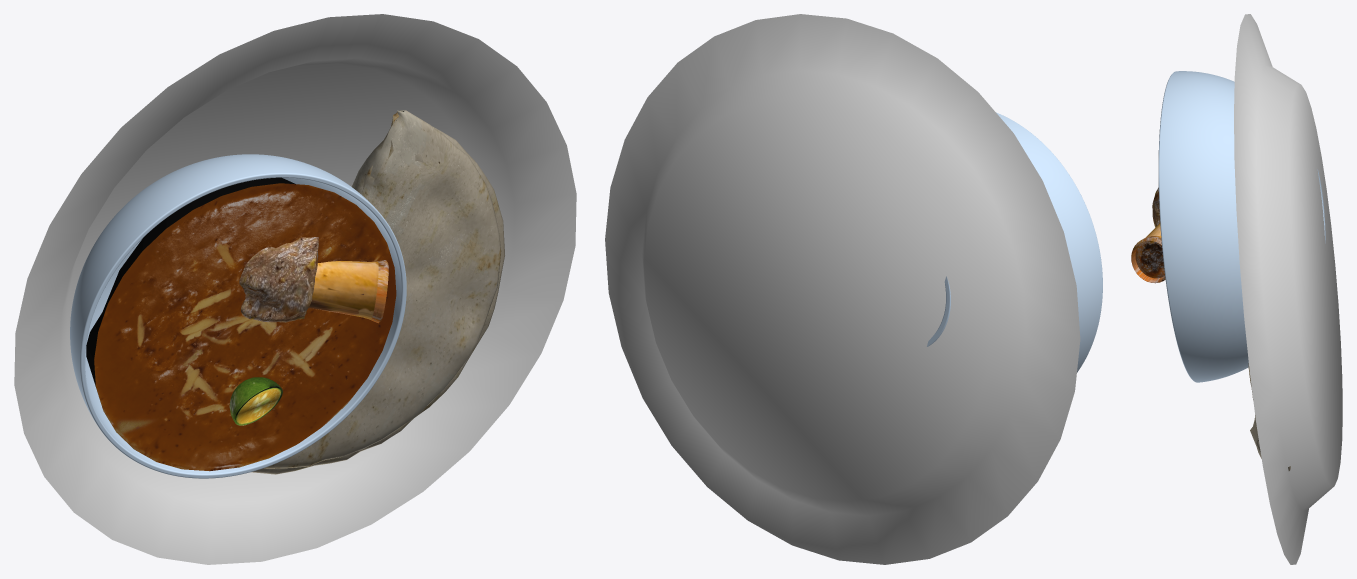
Rendered from nihari.glb.
3 views of the same model, side by side, from view 1: azimuth 30°, elevation 25°; view 2: azimuth 150°, elevation 25°; view 3: azimuth 270°, elevation 25° (orthographic). The views are drawn at different scales.
Parts seen in each view (by area): view 1: Circle.002, coffee.004, Cylinder.001, Kugel.005, Cube, Cylinder.002, Sphere.004, Sphere.003; view 2: Circle.002, Kugel.005; view 3: Circle.002, Kugel.005, Cylinder.002.
Boxes of the visible parts, left/top/right/bottom form: Circle.002: left=14, top=14, right=576, bottom=564; coffee.004: left=86, top=177, right=396, bottom=471; Cylinder.001: left=251, top=110, right=504, bottom=474; Kugel.005: left=70, top=154, right=406, bottom=478; Cube: left=239, top=237, right=318, bottom=322; Cylinder.002: left=309, top=260, right=388, bottom=323; Sphere.004: left=235, top=386, right=281, bottom=424; Sphere.003: left=229, top=377, right=282, bottom=425; Circle.002: left=605, top=14, right=1080, bottom=564; Kugel.005: left=927, top=112, right=1102, bottom=372; Circle.002: left=1234, top=14, right=1342, bottom=564; Kugel.005: left=1158, top=71, right=1325, bottom=382; Cylinder.002: left=1131, top=223, right=1165, bottom=283.
Size of the model in its own units: 7.21 by 7.17 by 2.76.
8 materials, 6 textured.
